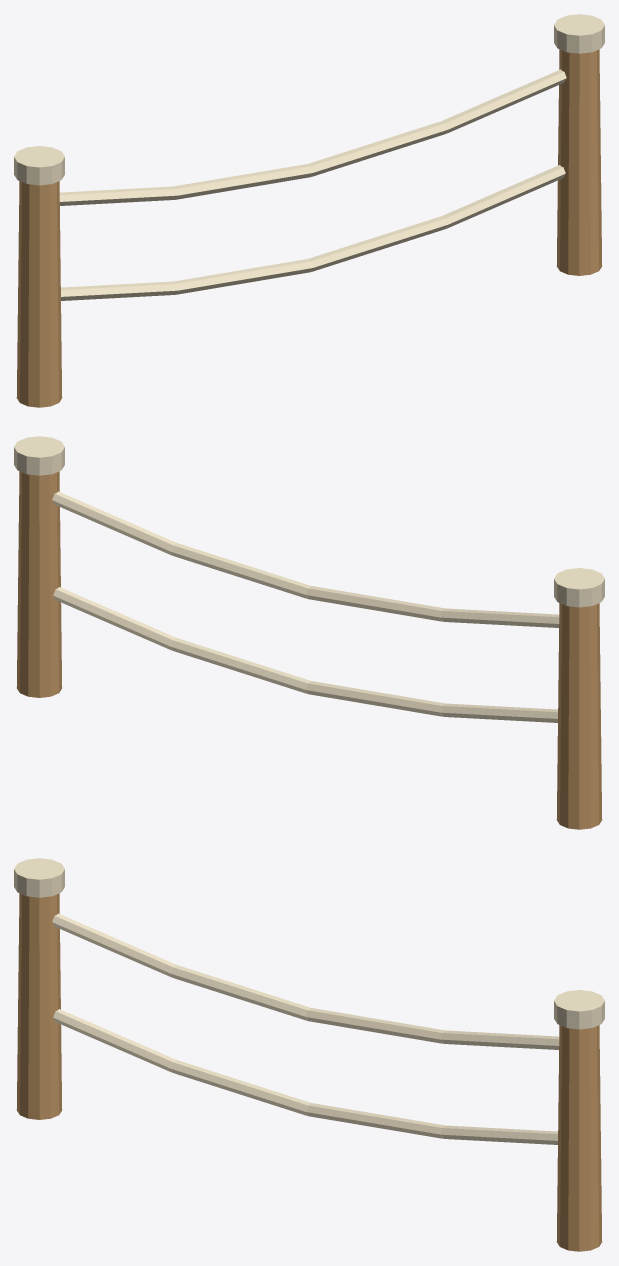
File: dock_railing_quiet_lake_fishing_22401.glb
The picture shows the model from 3 angles, top to bottom: view 1: azimuth 30°, elevation 25°; view 2: azimuth 150°, elevation 25°; view 3: azimuth 330°, elevation 25°; orthographic projection.
Visible parts, largest first — view 1: wood, cream; view 2: wood, cream; view 3: wood, cream.
Boxes of the visible parts, box(x1,y1,x2,y2) form: wood: box(16, 49, 602, 407); cream: box(14, 14, 604, 300); wood: box(16, 471, 602, 829); cream: box(14, 436, 604, 722); wood: box(16, 893, 602, 1251); cream: box(14, 858, 604, 1144).
Bounding box in the file's own units: 2.38 × 0.94 × 0.1798.
